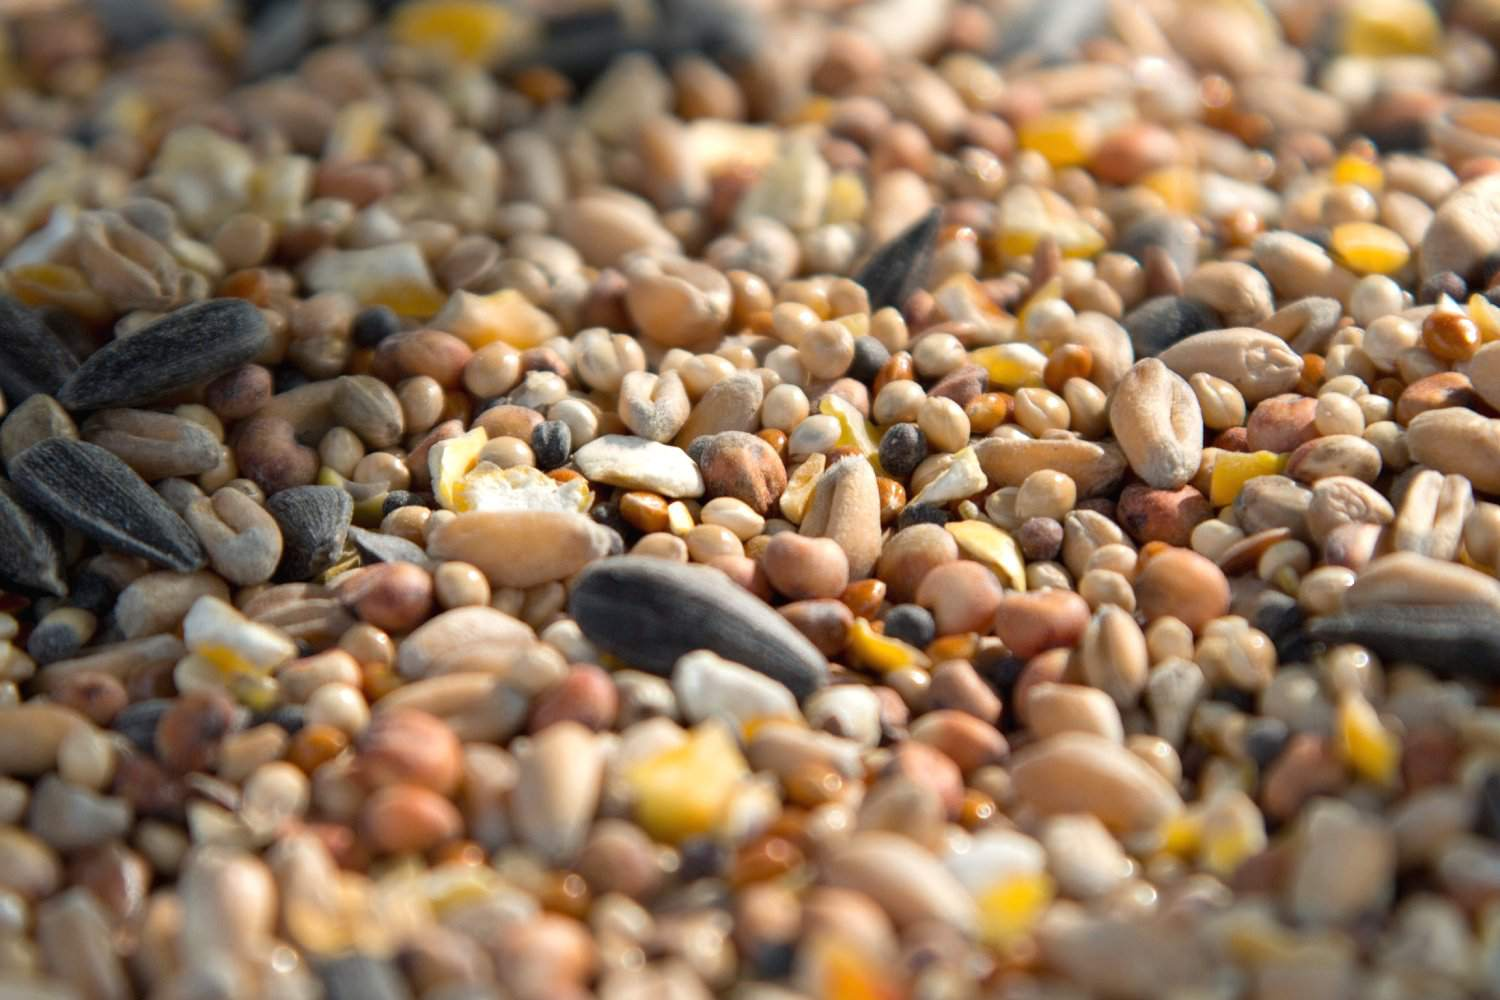seed: (1, 1, 1500, 1000)
